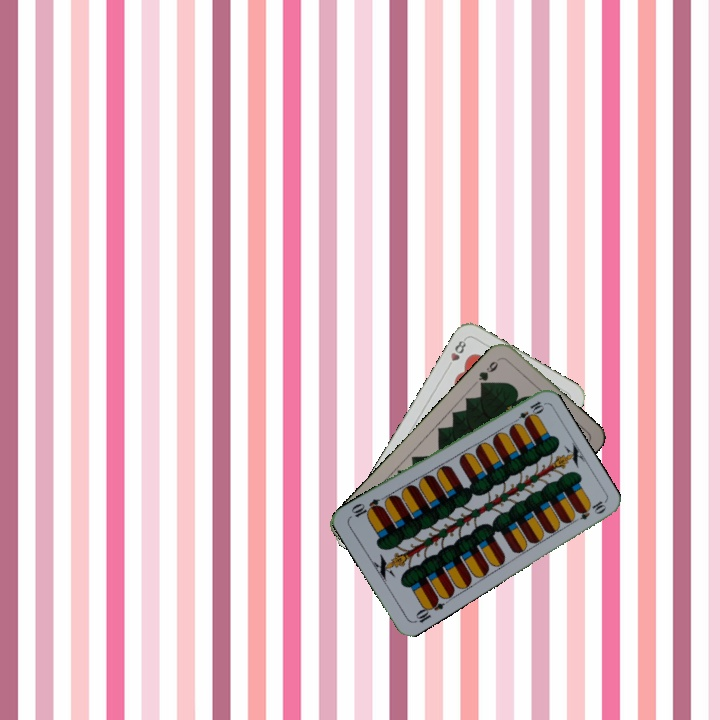E10: (410, 594, 447, 625), (509, 397, 546, 427)
G9: (474, 354, 503, 390)
H8: (443, 334, 469, 371)
